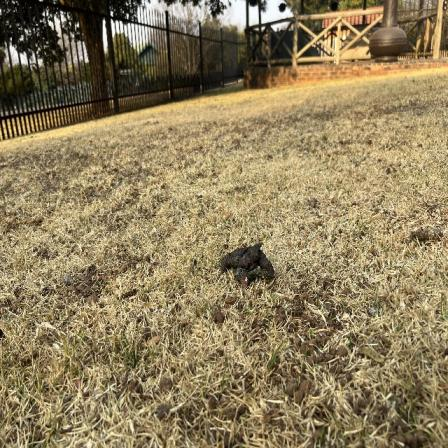dog-poop: (216, 238, 277, 284)
